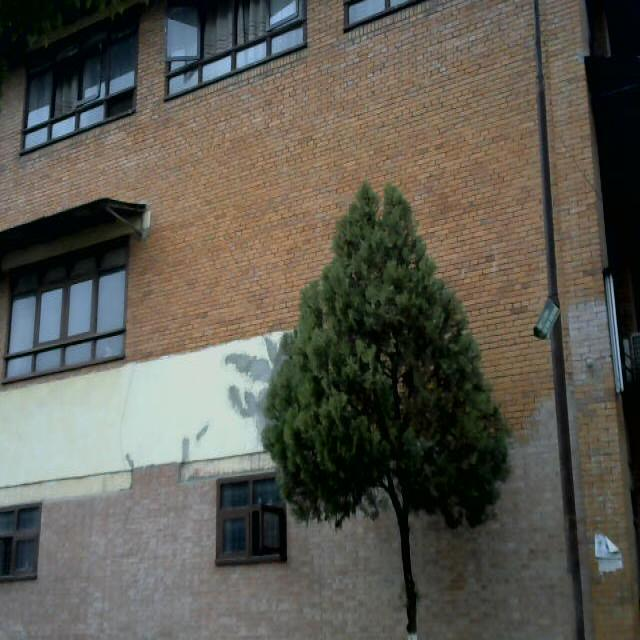Buildings: (1, 0, 401, 640)
Pole: (516, 2, 625, 640)
trees: (264, 180, 502, 640)
